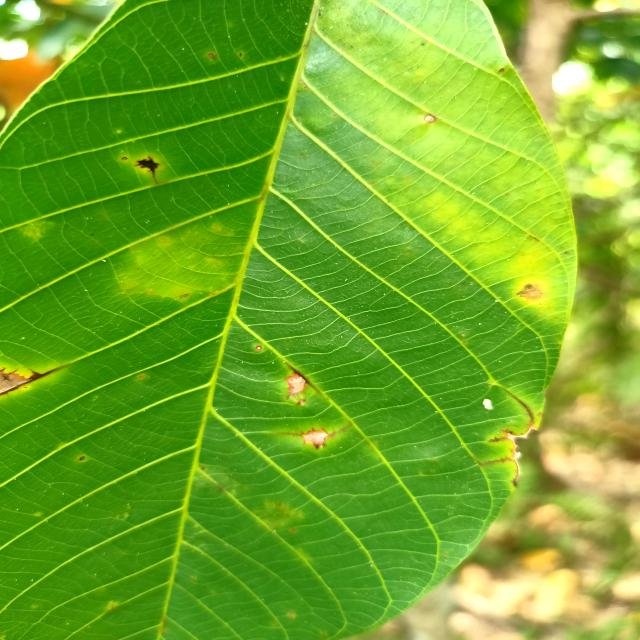Colletotrichum: (135, 156, 160, 183), (424, 115, 435, 124), (255, 345, 263, 351), (121, 156, 128, 160), (499, 68, 504, 72), (333, 115, 336, 117)
Corynespora: (272, 421, 353, 450), (0, 365, 66, 395), (502, 387, 536, 429), (285, 363, 320, 393), (476, 458, 512, 467), (488, 435, 510, 443)
Leaf-Blight: (0, 369, 30, 393), (284, 376, 306, 400), (519, 283, 542, 300), (304, 429, 328, 445)
